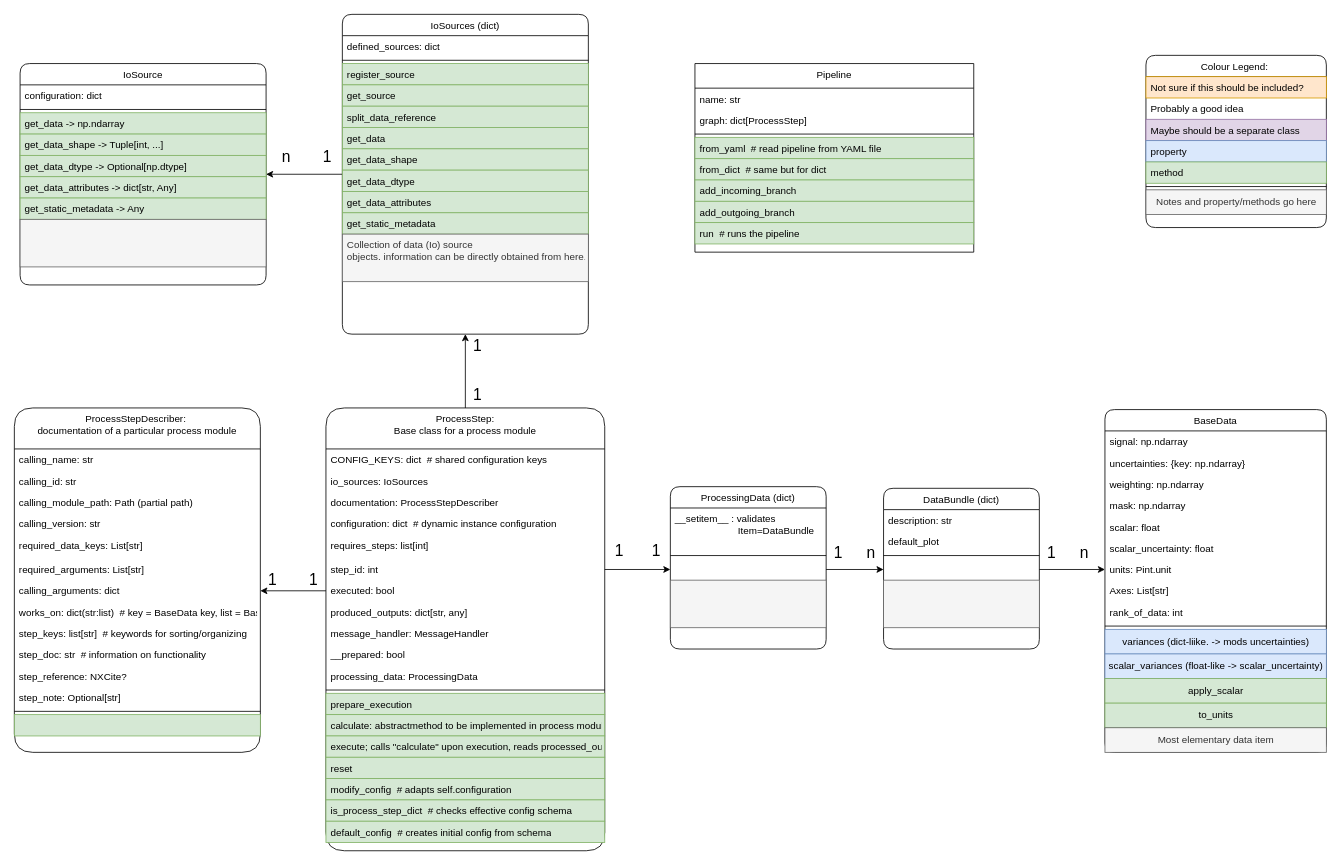
Some shapes in this 1341 by 865 pixel diagram are drawn without their labels. The shapes that lost their labels are listed below. From the top down, each one's centre as x and y in pixels, then its label:
the point at 142,243: Defines a data source
the point at 748,603: Data carrier, populated with DataBundles used in a pipeline
the point at 961,603: Combines associated BaseData objects, e.g. "I", "Q", "Psi"
the point at 137,725: copy # not implemented yet
